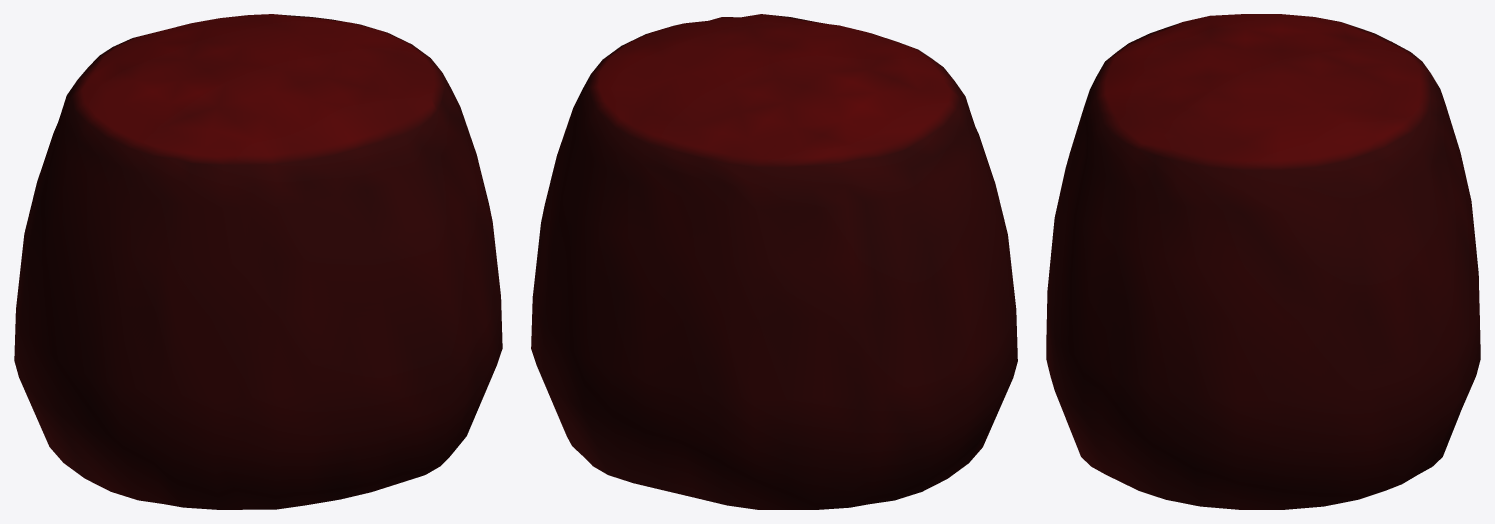
Rendered from geology-landforms-greenhilllarge_v1.fbx.
The picture shows the model from 3 angles, left to right: view 1: azimuth 30°, elevation 25°; view 2: azimuth 150°, elevation 25°; view 3: azimuth 270°, elevation 25°; orthographic projection.
Parts seen in each view (by area): view 1: GreenHillLarge_v1; view 2: GreenHillLarge_v1; view 3: GreenHillLarge_v1.
Part boxes in pixels (x1,y1,x2,y2): GreenHillLarge_v1: (14, 14, 502, 509); GreenHillLarge_v1: (531, 14, 1017, 509); GreenHillLarge_v1: (1046, 14, 1480, 509).
Size of the model in its own units: 27.32 by 22.17 by 24.72.
